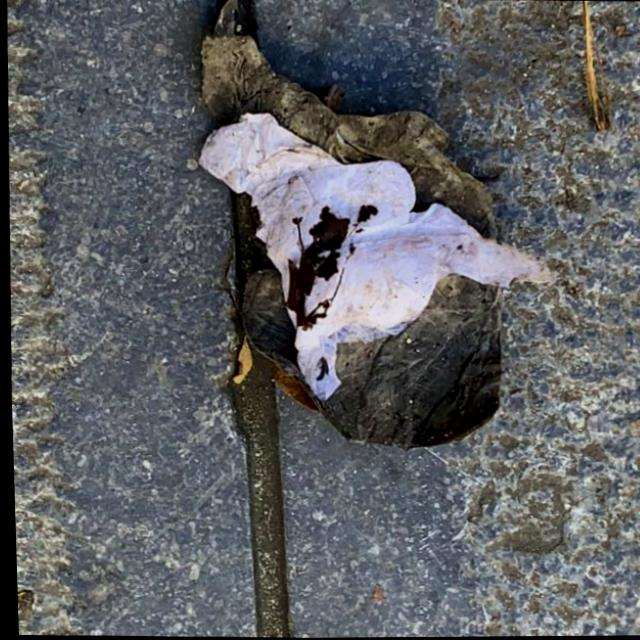Paper: (188, 107, 563, 407)
